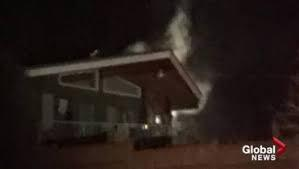smoke: (146, 7, 198, 62)
